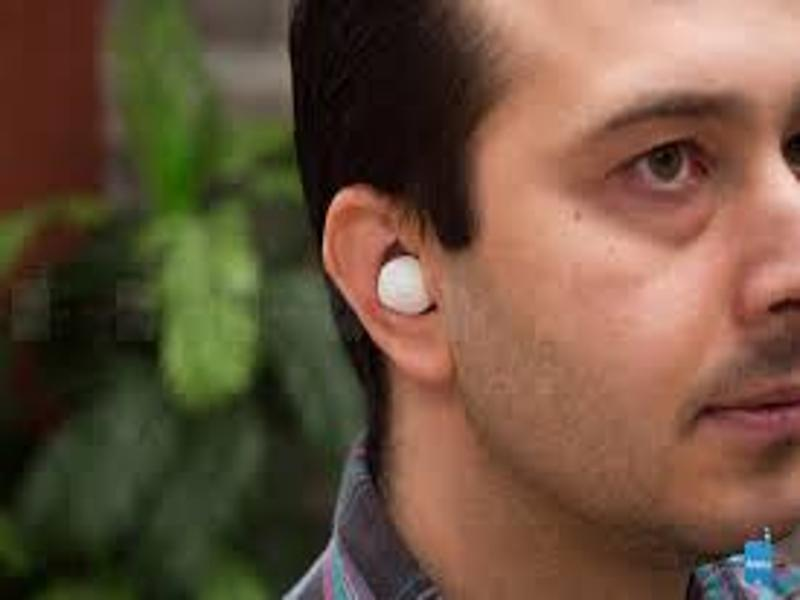headphone: (372, 253, 436, 314)
